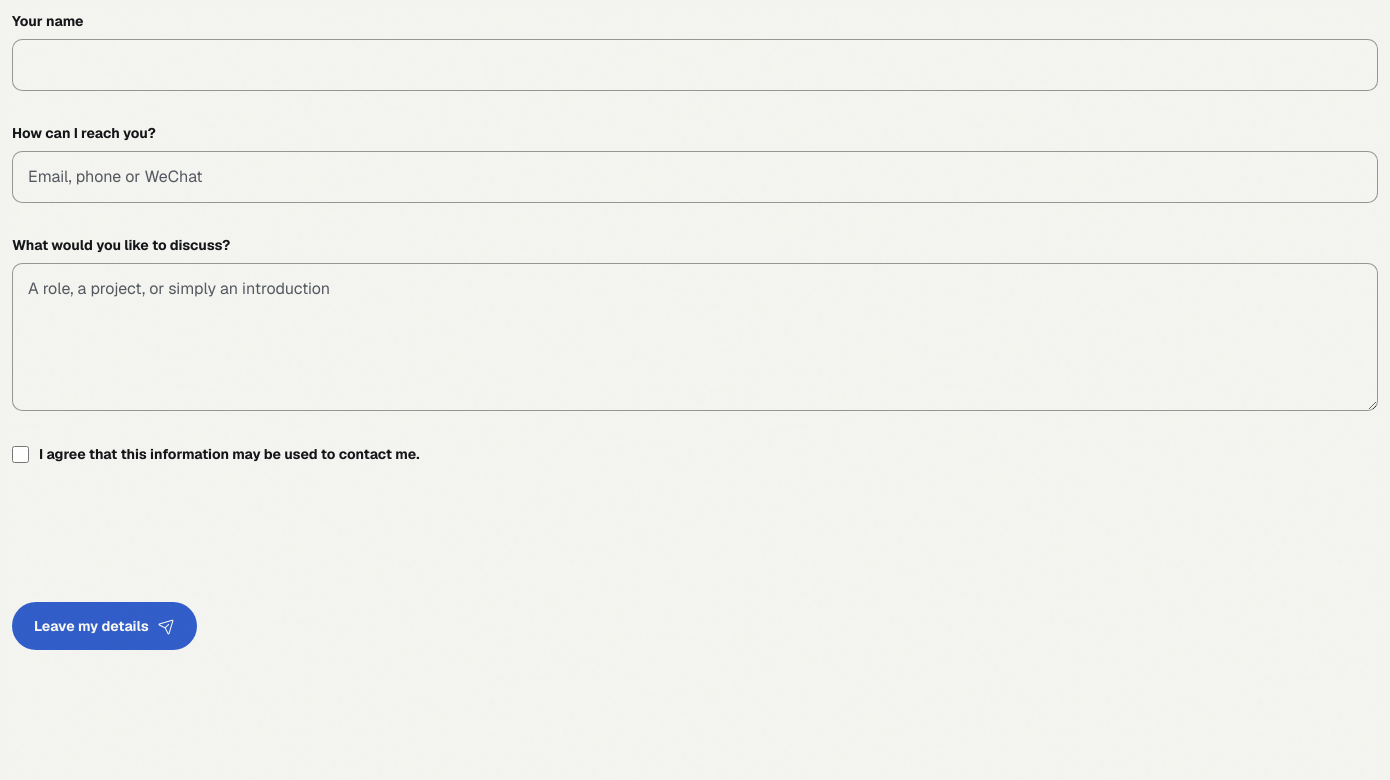
Test: ContactForm › provides an English form and English validation
Step 1. Click the button "Leave my details" → click(104, 626), box left=12, top=602, right=197, bottom=650
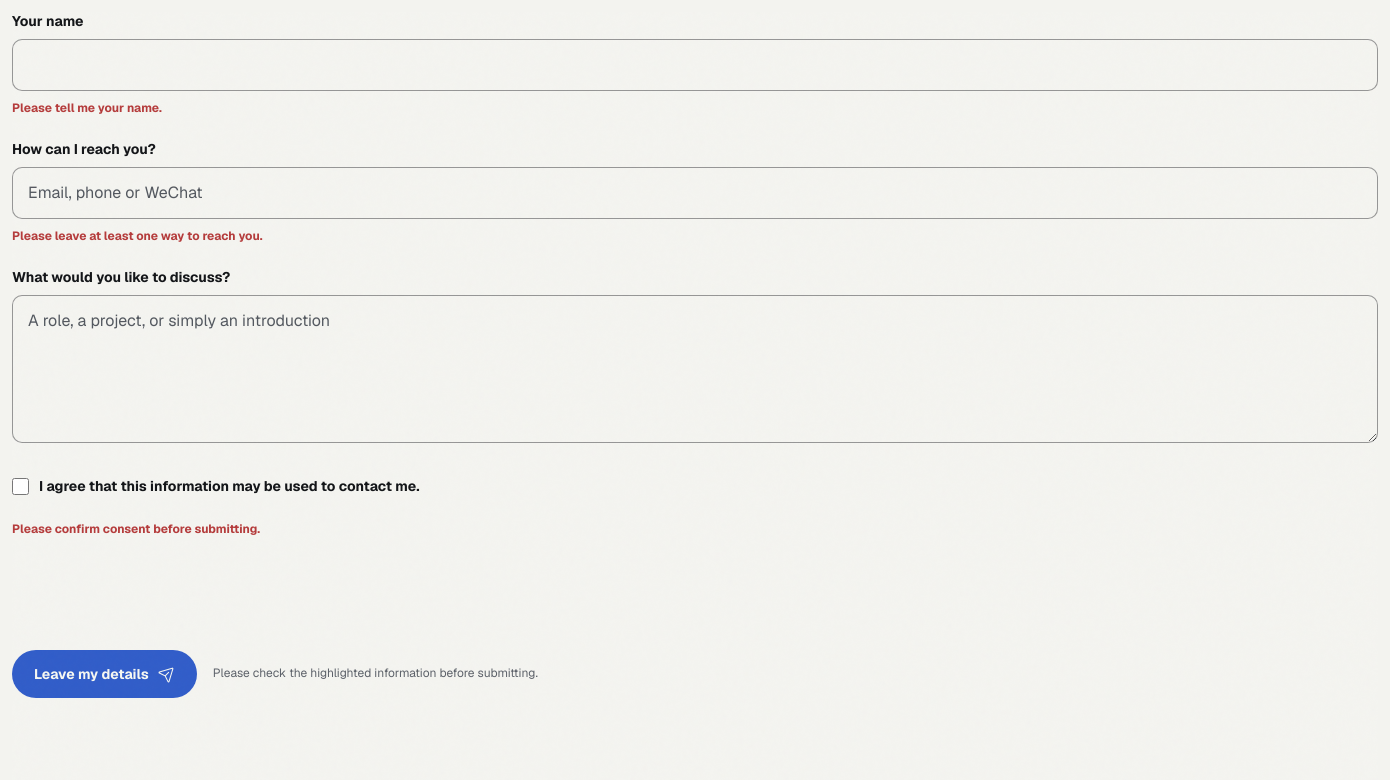
Now the text "Please tell me your name." is shown, box left=12, top=100, right=162, bottom=116
Now the text "Please leave at least one way to reach you." is shown, box left=12, top=228, right=262, bottom=244
Now the text "Please confirm consent before submitting." is shown, box left=12, top=521, right=260, bottom=537
